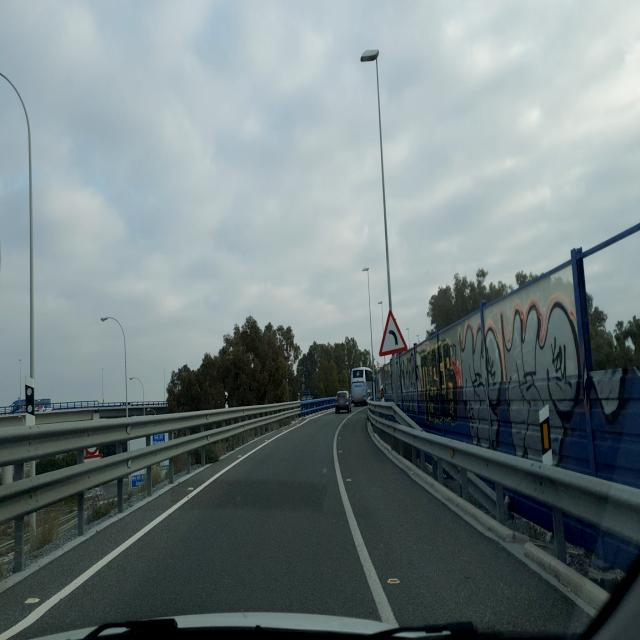car: (334, 390, 352, 414)
